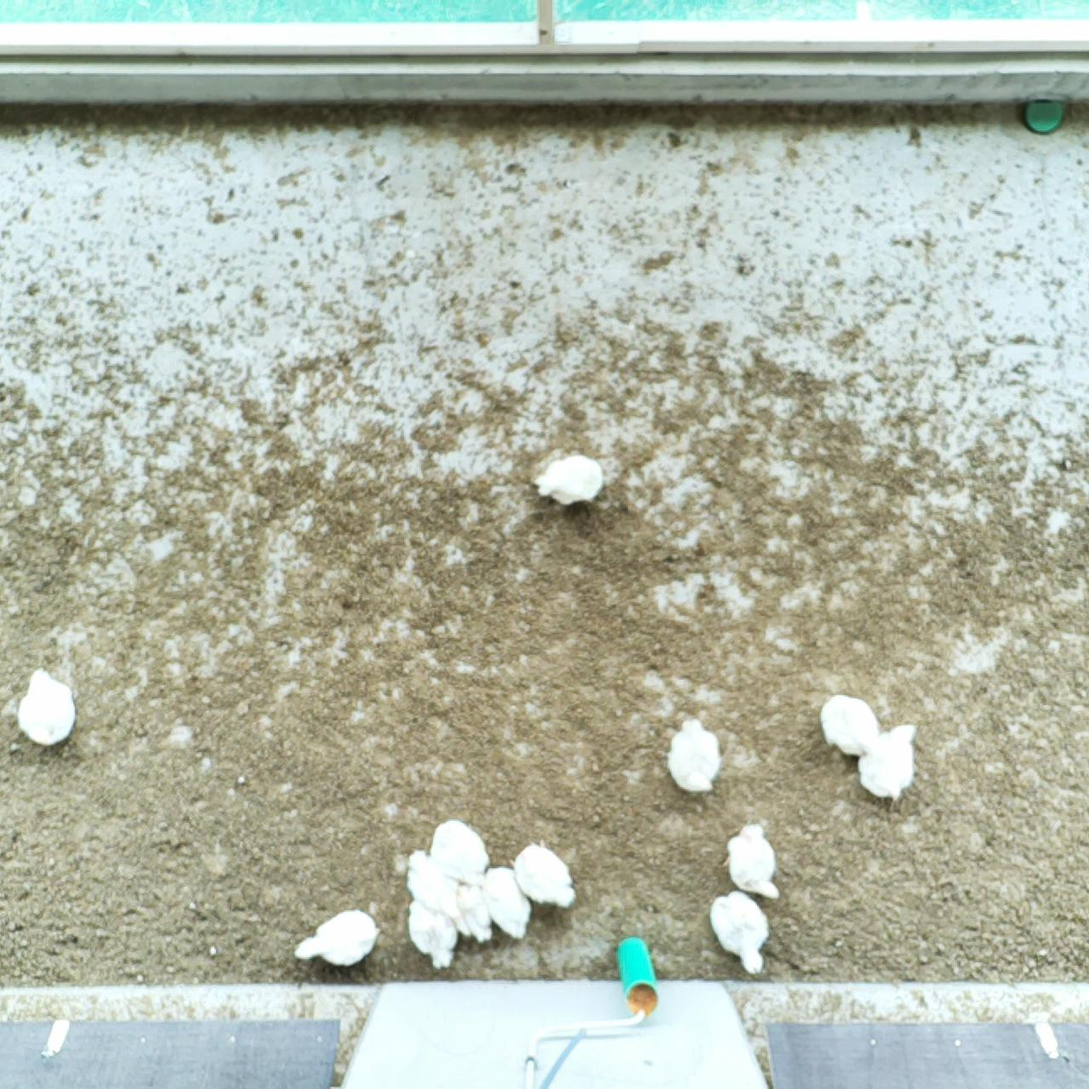chicken: (403, 847, 470, 942), (708, 886, 774, 979), (291, 906, 384, 971), (14, 664, 80, 751), (721, 820, 786, 904), (508, 836, 578, 913), (857, 720, 921, 802), (661, 716, 726, 793), (815, 690, 884, 757), (532, 452, 608, 508), (483, 862, 535, 941), (406, 897, 461, 970), (427, 818, 492, 877), (454, 879, 499, 946)
